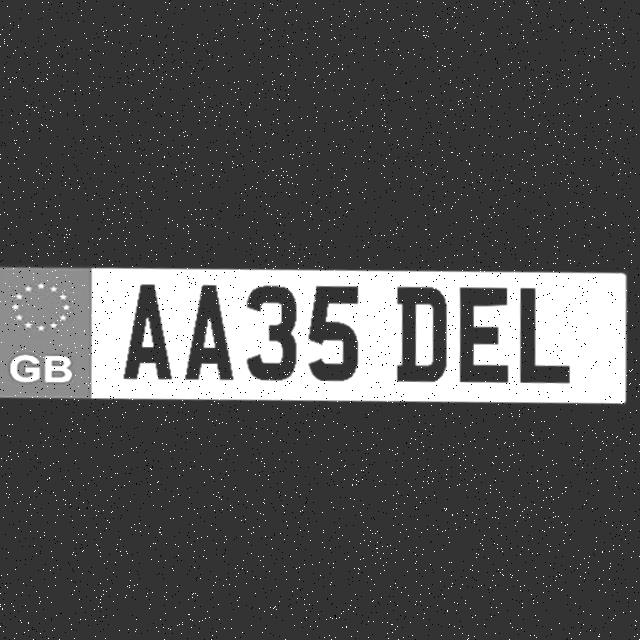license-plates: (0, 267, 628, 402)
